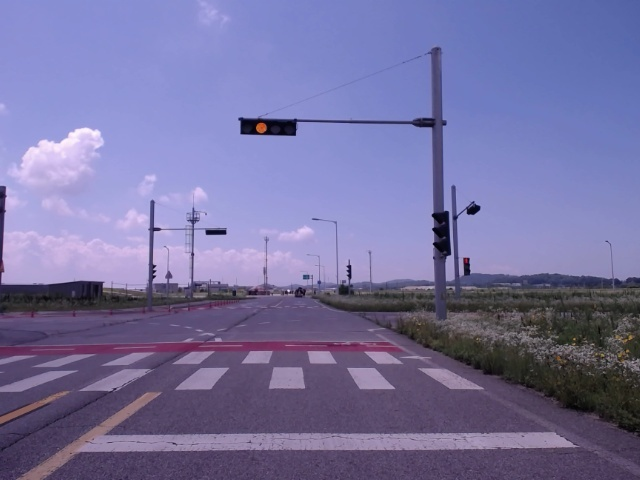orange_4: (241, 119, 295, 135)
